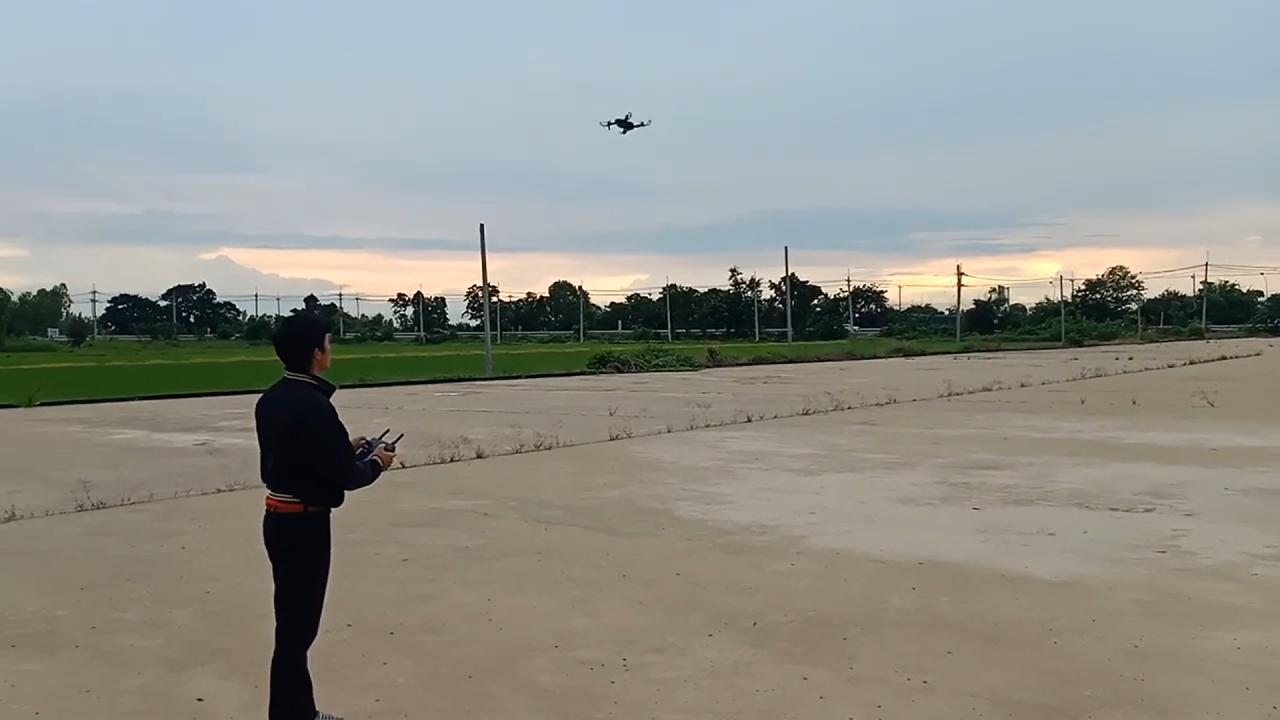Drone: (587, 103, 661, 145)
